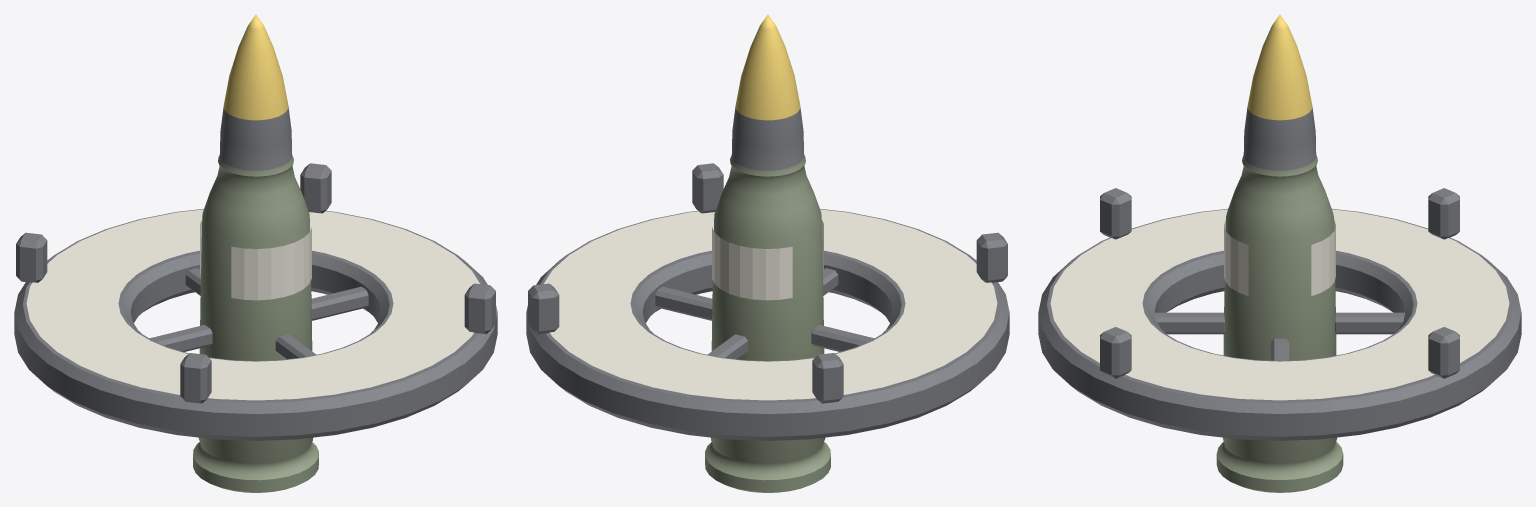
The model's file is Pickup_Deadeye.fbx.
The picture shows the model from 3 angles, left to right: view 1: azimuth 30°, elevation 25°; view 2: azimuth 150°, elevation 25°; view 3: azimuth 270°, elevation 25°; orthographic projection.
Parts seen in each view (by area): view 1: Pickup_Deadeye; view 2: Pickup_Deadeye; view 3: Pickup_Deadeye.
Part boxes in pixels (x1,y1,x2,y2): Pickup_Deadeye: (14, 14, 497, 492); Pickup_Deadeye: (526, 14, 1009, 492); Pickup_Deadeye: (1038, 14, 1521, 492).
Size of the model in its own units: 0.52 by 0.54 by 0.52.
